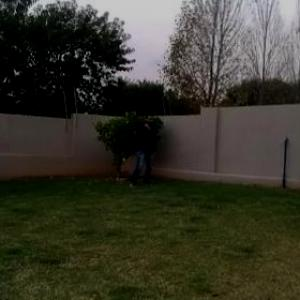follow: (135, 112, 154, 190)
